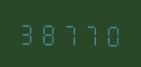eight: (39, 19, 59, 46)
seven: (60, 19, 80, 47), (81, 20, 101, 47)
three: (18, 19, 38, 46)
zero: (102, 20, 122, 47)
